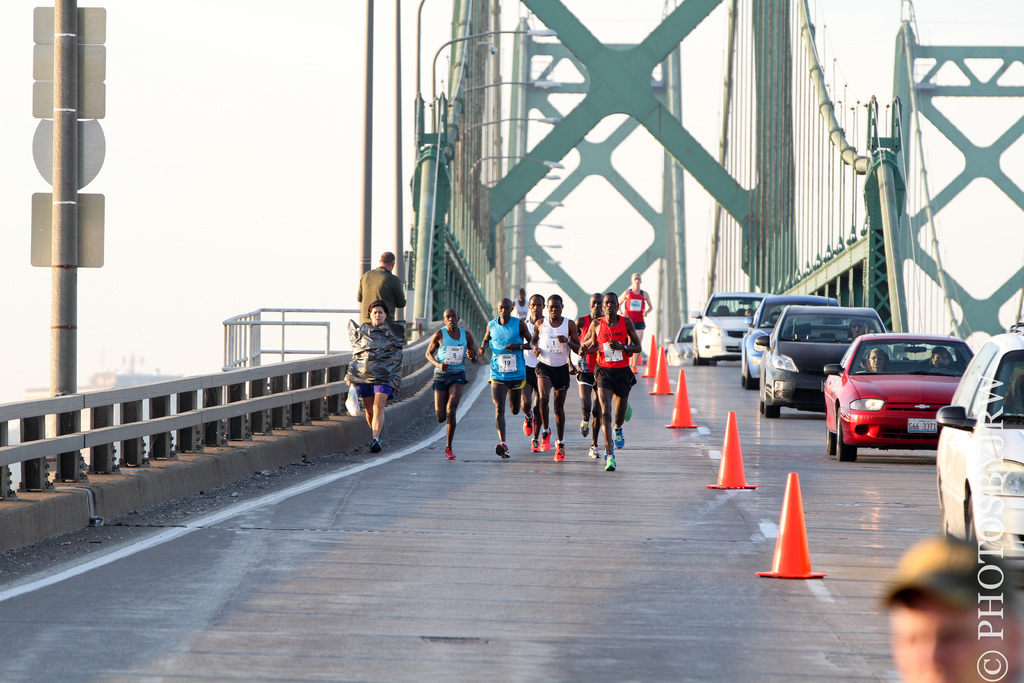Car: (822, 329, 974, 463), (933, 335, 1023, 561), (759, 301, 887, 412), (733, 286, 842, 394), (693, 292, 785, 372), (663, 325, 696, 369)
